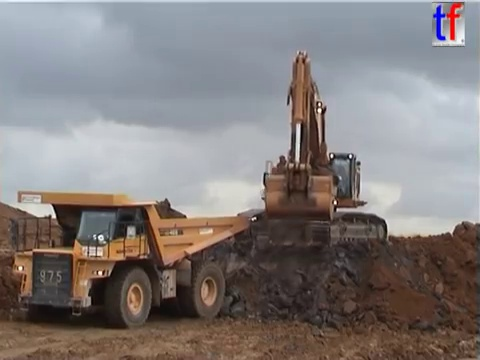excavator: (233, 47, 390, 254)
truck: (7, 189, 251, 330)
